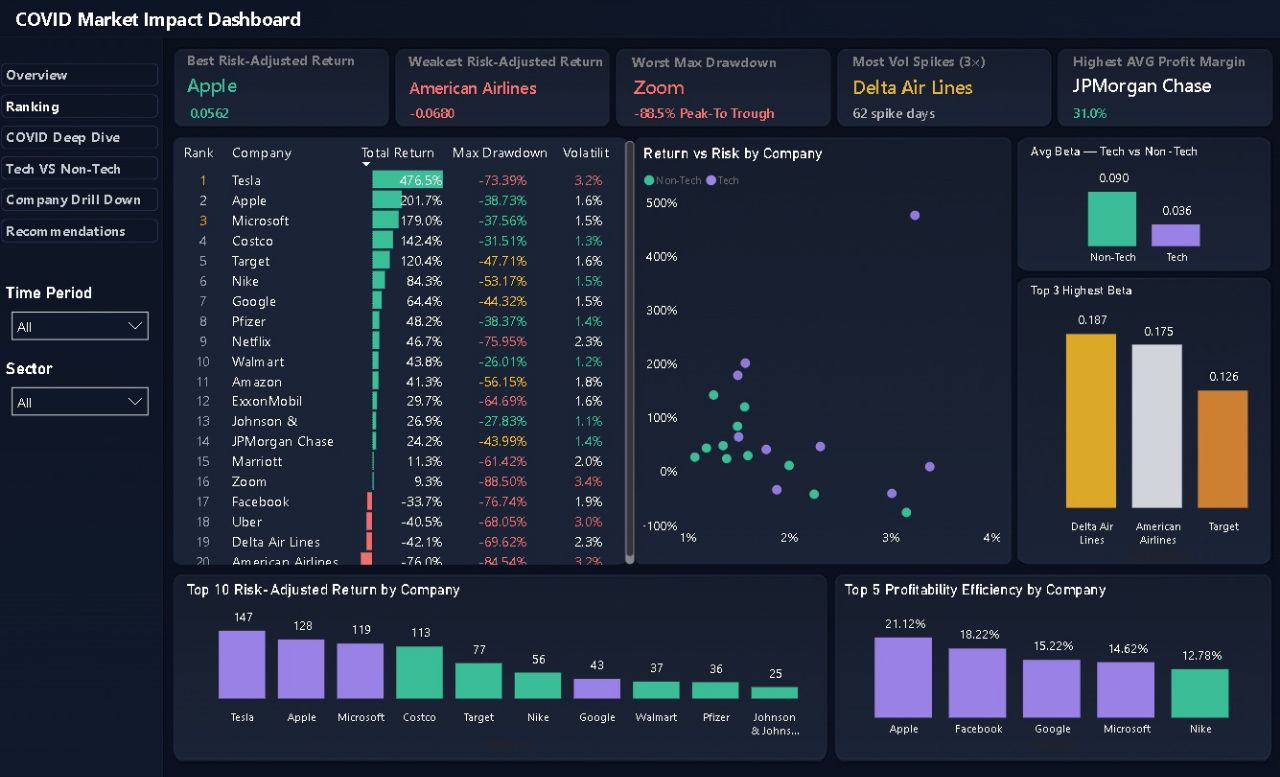

Layout of this report page (visuals, bound fields, positions):
{"tool":"powerbi","page":{"name":"Ranking","canvas":[1280,780],"ordinal":1},"visuals":[{"type":"cardVisual","fields":{"Data":["Key_Measures.Highest Sharpe Ratio Company","Key_Measures.Highest Sharpe Ratio"]},"box":[162.5,56.6,220,95.2],"z":0},{"type":"cardVisual","fields":{"Data":["Key_Measures.Worst Max Drawdown Company","Key_Measures.Worst Max Drawdown Display"]},"box":[602.1,56.4,238.3,95.3],"z":1000},{"type":"cardVisual","fields":{"Data":["Key_Measures.Most Vol Spikes Company","Key_Measures.Most Vol Spikes Display"]},"box":[823.2,56.6,220,95.2],"z":2000},{"type":"textbox","box":[185.8,45.8,184,32.3],"z":3000},{"type":"textbox","box":[628.4,49.4,156.2,32.3],"z":4000},{"type":"textbox","box":[847,48,196,30],"z":5000},{"type":"columnChart","title":"Top 10 Risk-Adjusted Return by Company ","fields":{"Category":["dimCompany.Company"],"Y":["Key_Measures.Risk-Adjusted Return"]},"box":[185.8,580.6,641.9,174.1],"z":6000},{"type":"cardVisual","fields":{"Data":["Key_Measures.Lowest Sharpe Ratio Company","Key_Measures.Lowest Sharpe Ratio Footer"]},"box":[382.4,56.6,220,95.2],"z":7000},{"type":"textbox","box":[403,46,225,32],"z":8000},{"type":"cardVisual","fields":{"Data":["Key_Measures.Highest Profit Margin Company","Key_Measures.Highest Profit Margin Footer"]},"box":[1043.2,56.6,220,95.2],"z":9000},{"type":"textbox","box":[1067,48,196,30],"z":10000},{"type":"tableEx","fields":{"Values":["Key_Measures.Total Return Rank","dimCompany.Company","Key_Measures.Total Return Per Stock","Key_Measures.Max Drawdown","Key_Measures.Volatility"]},"box":[176,138.3,464.1,430.9],"z":11000},{"type":"scatterChart","title":"Return vs Risk by Company","fields":{"X":["Key_Measures.Volatility"],"Y":["Key_Measures.Total Return"],"Category":["dimCompany.Company"],"Series":["dimCompany.Is Tech"]},"box":[640.1,146.3,364.5,408.5],"z":12000},{"type":"columnChart","title":"Avg Beta — Tech vs Non-Tech","fields":{"Category":["dimCompany.Is Tech"],"Y":["Key_Measures.Average Beta"]},"box":[1025.2,146.3,237.9,129.3],"z":13000},{"type":"columnChart","title":"Top 5 Profitability Efficiency by Company","fields":{"Category":["dimCompany.Company"],"Y":["Key_Measures.Avg Profit % of Assets"]},"box":[840.3,580.6,423.1,174.1],"z":14000},{"type":"textbox","box":[18,0,304.3,42.2],"z":15000},{"type":"pageNavigator","box":[6.3,65.5,156.2,178.7],"z":16000},{"type":"columnChart","title":"Top 3 Highest Beta","fields":{"Category":["dimCompany.Company"],"Y":["Key_Measures.Beta"]},"box":[1025.2,285,254.8,284],"z":17000},{"type":"slicer","title":"Time Period","fields":{"Values":["dcalendar.Year","dcalendar.Month"]},"box":[6.3,284.6,156.2,56.6],"z":18000},{"type":"slicer","title":"Sector","fields":{"Values":["dimCompany.Is Tech"]},"box":[6.3,360,156.2,56.6],"z":19000}]}

Visuals, with their boxes in screenshot pixels (x1, y1, x2, y2), scaled from the page's 1280x780 canvas onto the 1280x777 screenshot:
cardVisual - Key_Measures.Highest Sharpe Ratio Company x Key_Measures.Highest Sharpe Ratio: rect(162, 56, 382, 151)
cardVisual - Key_Measures.Worst Max Drawdown Company x Key_Measures.Worst Max Drawdown Display: rect(602, 56, 840, 151)
cardVisual - Key_Measures.Most Vol Spikes Company x Key_Measures.Most Vol Spikes Display: rect(823, 56, 1043, 151)
textbox: rect(186, 46, 370, 78)
textbox: rect(628, 49, 785, 81)
textbox: rect(847, 48, 1043, 78)
"Top 10 Risk-Adjusted Return by Company " columnChart: rect(186, 578, 828, 752)
cardVisual - Key_Measures.Lowest Sharpe Ratio Company x Key_Measures.Lowest Sharpe Ratio Footer: rect(382, 56, 602, 151)
textbox: rect(403, 46, 628, 78)
cardVisual - Key_Measures.Highest Profit Margin Company x Key_Measures.Highest Profit Margin Footer: rect(1043, 56, 1263, 151)
textbox: rect(1067, 48, 1263, 78)
tableEx - Key_Measures.Total Return Rank x dimCompany.Company: rect(176, 138, 640, 567)
"Return vs Risk by Company" scatterChart: rect(640, 146, 1005, 553)
"Avg Beta — Tech vs Non-Tech" columnChart: rect(1025, 146, 1263, 275)
"Top 5 Profitability Efficiency by Company" columnChart: rect(840, 578, 1263, 752)
textbox: rect(18, 0, 322, 42)
pageNavigator: rect(6, 65, 162, 243)
"Top 3 Highest Beta" columnChart: rect(1025, 284, 1279, 567)
"Time Period" slicer: rect(6, 284, 162, 340)
"Sector" slicer: rect(6, 359, 162, 415)
